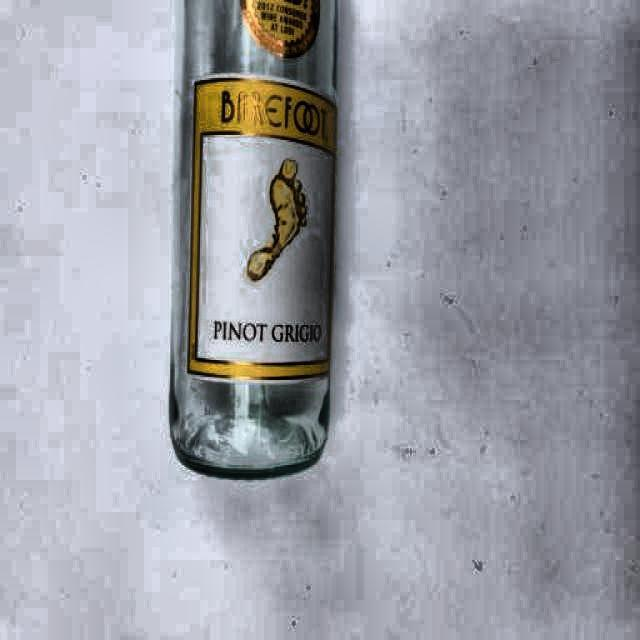glass: (169, 0, 338, 483)
